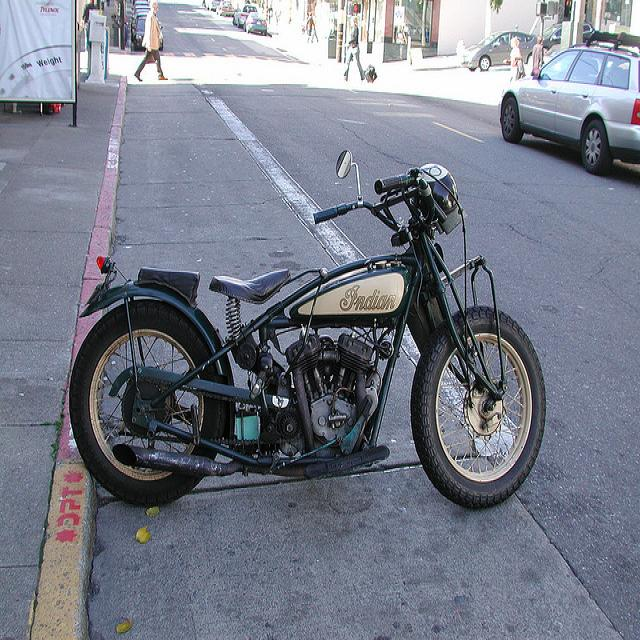motor: (63, 165, 541, 509)
